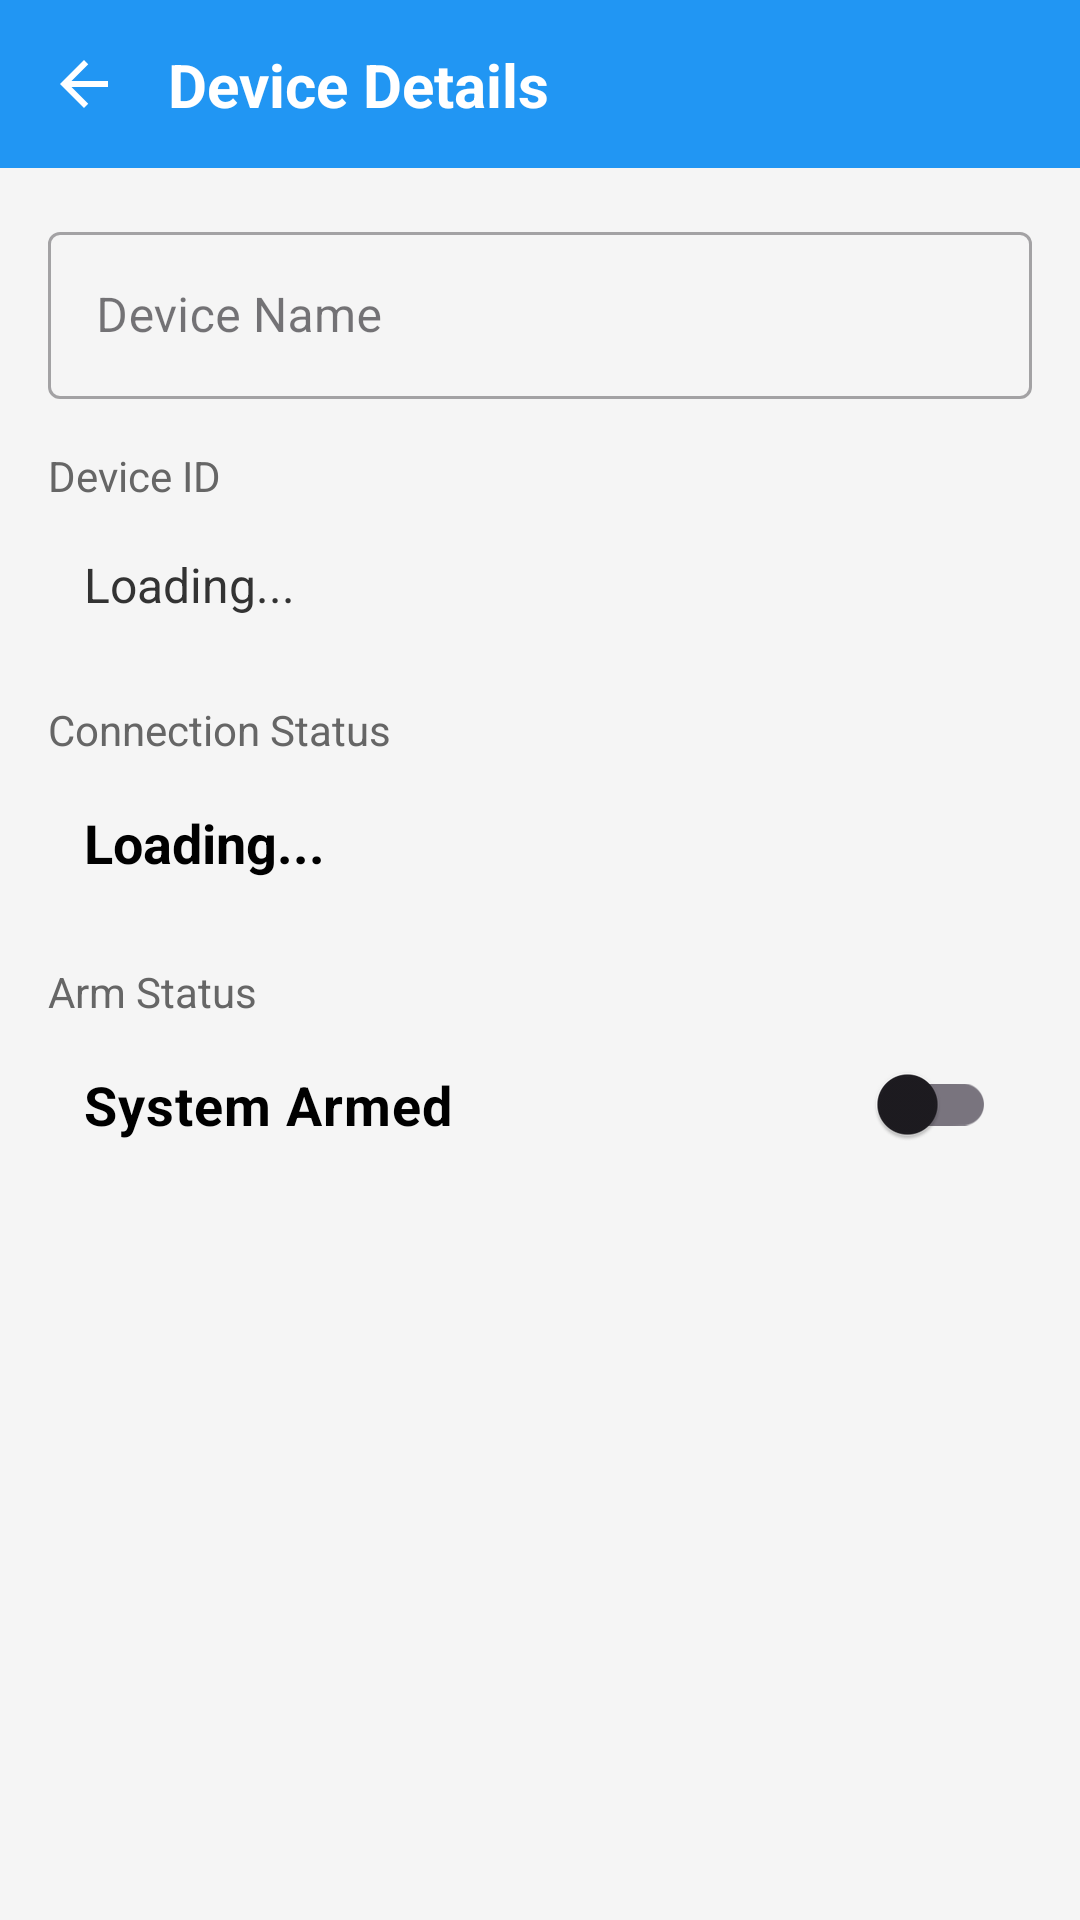

Where icons sit on this 1080px x 1920px app screen, as (x1, y1, x2, y2):
back arrow: (60, 60, 108, 108)
